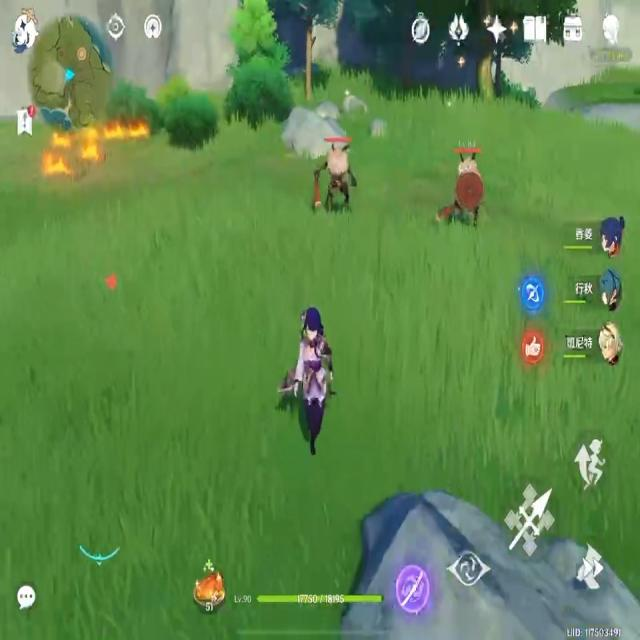genshin-hilichurls: (446, 134, 480, 249), (314, 130, 362, 208)
